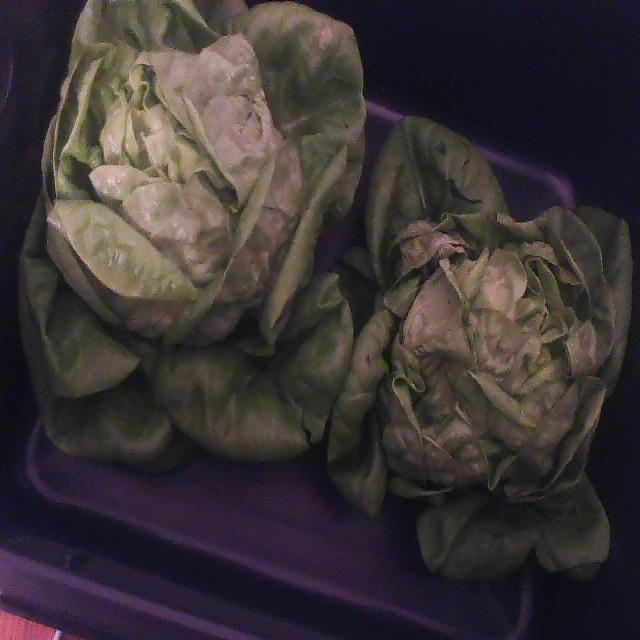Lettuce-plant: (19, 0, 365, 468), (327, 117, 631, 577)
